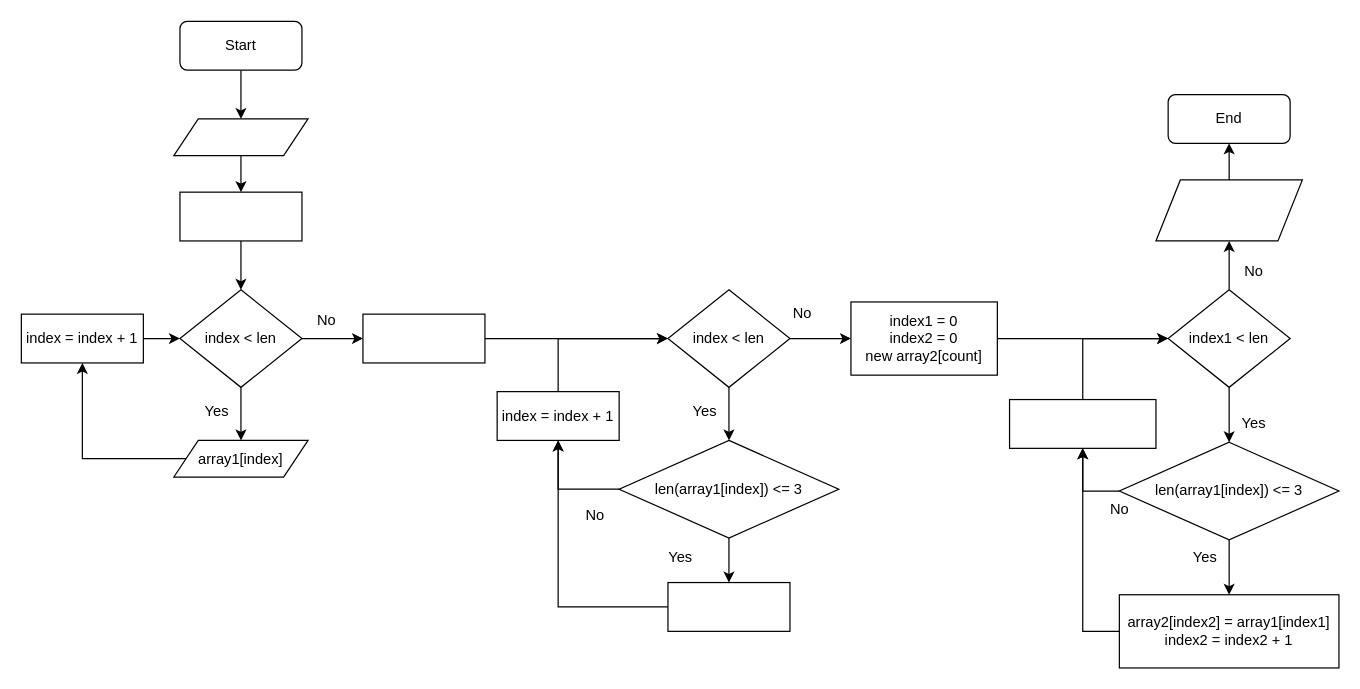
Image size: 1360x689. Some labels were removed from this diagram. Here are the shapes that lost their labels. From the top down, the centre of each, then its label:
At (x=240, y=137): "len".
At (x=240, y=216): "index = 0 new array1[len]".
At (x=1228, y=210): "array2".
At (x=423, y=338): "count = 0 index = 0".
At (x=1082, y=423): "index1 = index1 + 1".
At (x=728, y=606): "count = count + 1".
